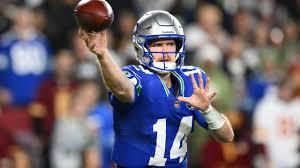americanFootball: (74, 0, 114, 30)
